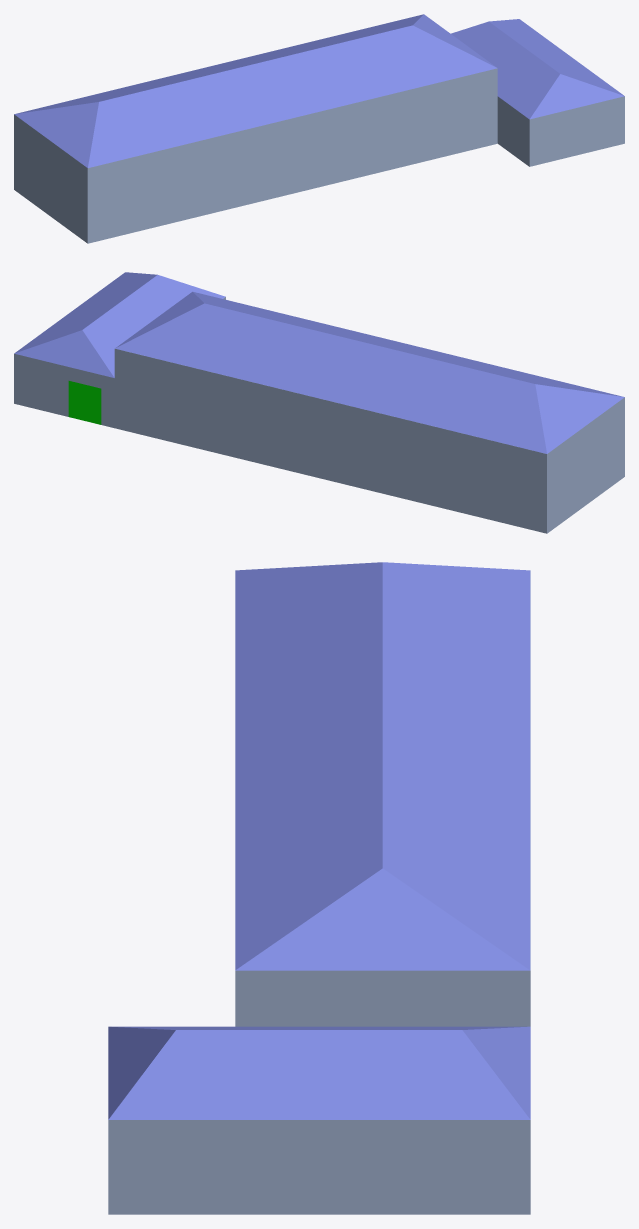
The model's file is Raw_Water_Pump_House.glb.
3 views of the same model, one above another, from view 1: azimuth 30°, elevation 25°; view 2: azimuth 150°, elevation 25°; view 3: azimuth 270°, elevation 25° (orthographic). The views are drawn at different scales.
Parts seen in each view (by area): view 1: Floor1, Roof; view 2: Floor1, Roof; view 3: Roof, Floor1.
Part boxes in pixels (left/top/right/bottom): Floor1: left=14, top=68, right=624, bottom=243; Roof: left=14, top=14, right=624, bottom=167; Floor1: left=14, top=297, right=624, bottom=533; Roof: left=14, top=272, right=624, bottom=453; Roof: left=108, top=562, right=530, bottom=1119; Floor1: left=108, top=570, right=530, bottom=1214.
Size of the model in its own units: 49.03 by 10.36 by 17.73.
